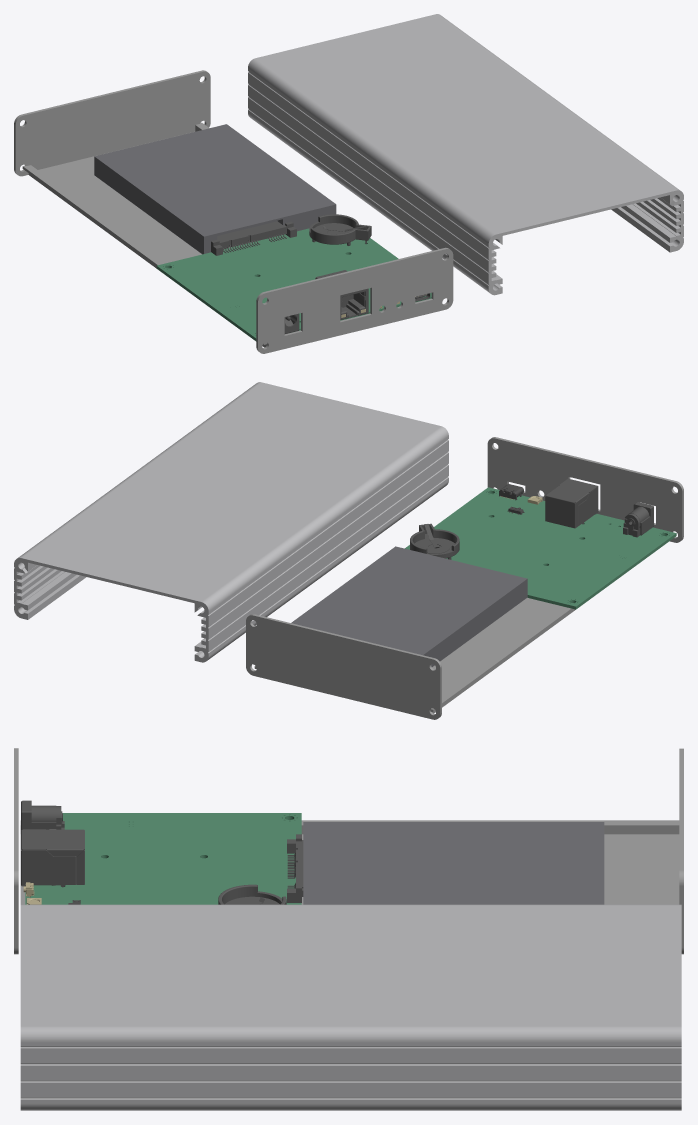
File: assembly-slim.glb
3 renders of one model, top to bottom at view 1: azimuth 30°, elevation 25°; view 2: azimuth 150°, elevation 25°; view 3: azimuth 270°, elevation 25°, orthographic. The views are drawn at different scales.
Parts seen in each view (by area): view 1: Case, HDD, EndPlate_Back, EndPlate_Front, PCB_Board, BellyPlate, PCB_Conn; view 2: Case, HDD, PCB_Board, EndPlate_Back, EndPlate_Front, BellyPlate, PCB_Conn; view 3: Case, HDD, PCB_Board, BellyPlate, PCB_Conn, EndPlate_Front, EndPlate_Back.
Boxes of the visible parts, bbox=[...] form: Case: bbox=[248, 14, 683, 295]; HDD: bbox=[94, 124, 336, 254]; EndPlate_Back: bbox=[14, 70, 210, 176]; EndPlate_Front: bbox=[256, 247, 453, 353]; PCB_Board: bbox=[156, 228, 431, 341]; BellyPlate: bbox=[22, 122, 267, 347]; PCB_Conn: bbox=[211, 214, 371, 333]; Case: bbox=[14, 382, 448, 662]; HDD: bbox=[291, 546, 527, 666]; PCB_Board: bbox=[405, 487, 676, 609]; EndPlate_Back: bbox=[246, 614, 441, 719]; EndPlate_Front: bbox=[487, 437, 683, 542]; BellyPlate: bbox=[254, 597, 575, 713]; PCB_Conn: bbox=[410, 479, 653, 559]; Case: bbox=[20, 904, 681, 1110]; HDD: bbox=[303, 822, 604, 904]; PCB_Board: bbox=[25, 813, 301, 904]; BellyPlate: bbox=[20, 820, 679, 904]; PCB_Conn: bbox=[21, 800, 303, 904]; EndPlate_Front: bbox=[14, 748, 18, 954]; EndPlate_Back: bbox=[679, 748, 683, 954].
Size of the model in its own units: 0.226 by 0.0305 by 0.223.
